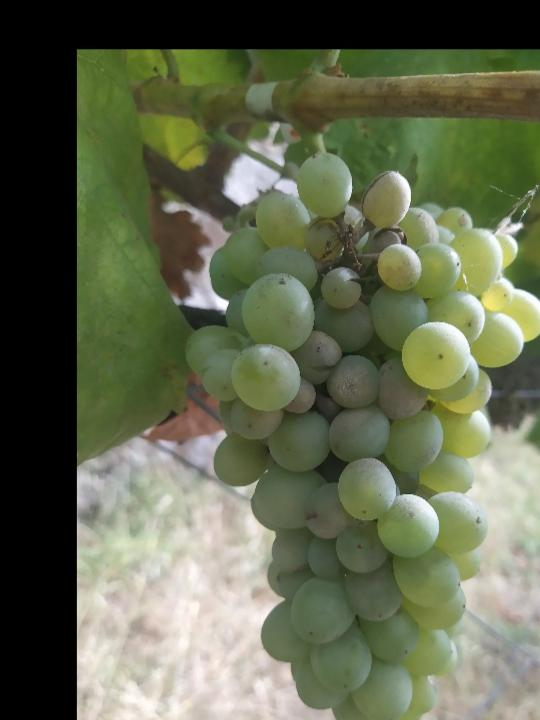grape: (181, 152, 540, 720)
